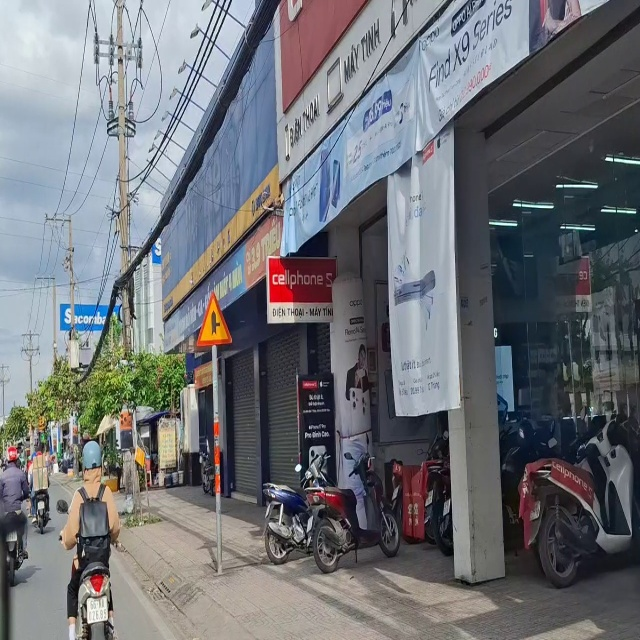giao nhau voi duong uu tien: (189, 276, 241, 358)
